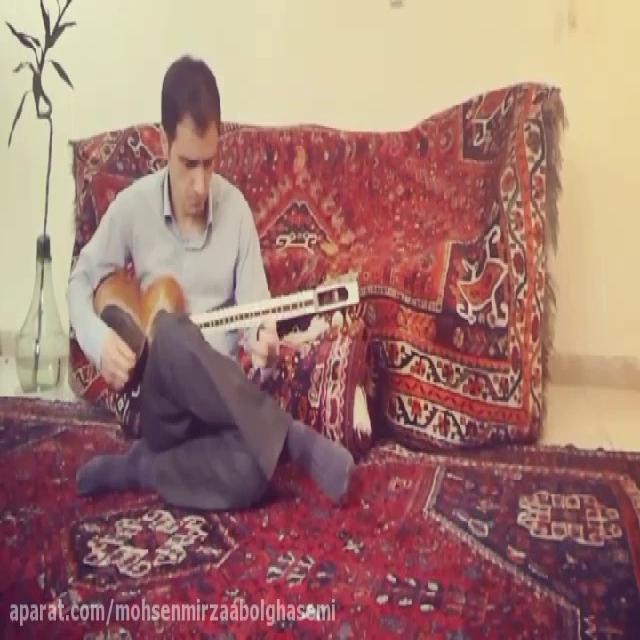Setar: (84, 263, 369, 397)
